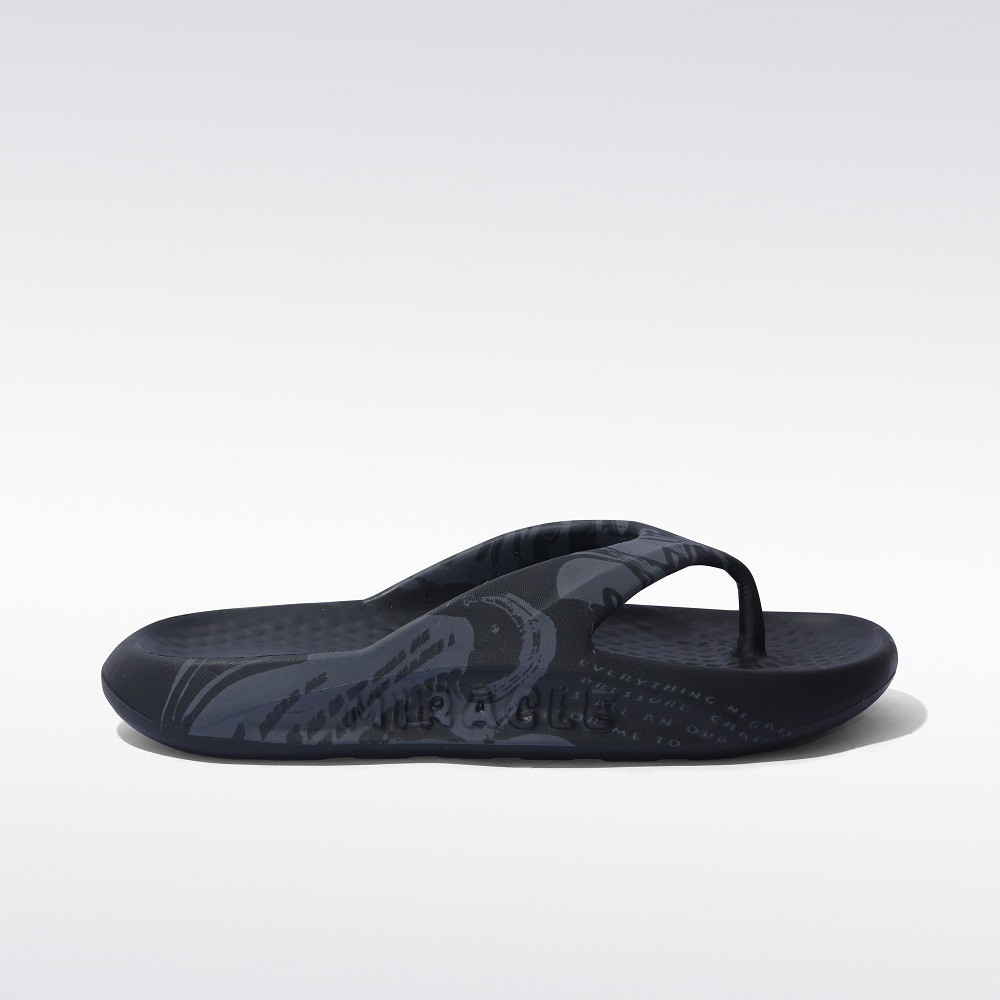flip_flops: (97, 520, 899, 764)
